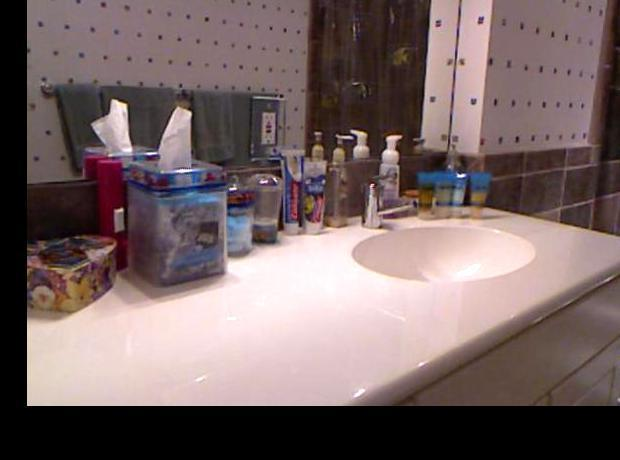Lavamanos: (348, 163, 540, 300)
